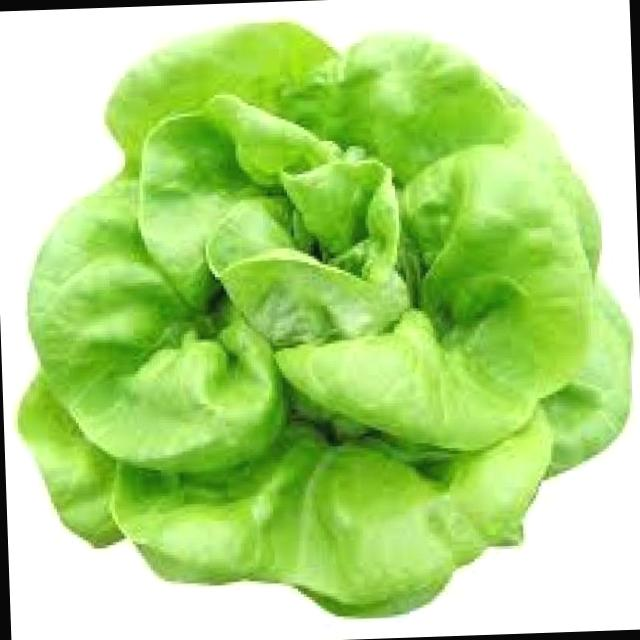Lettuce-Ready-to-Harvest: (20, 22, 629, 615)
